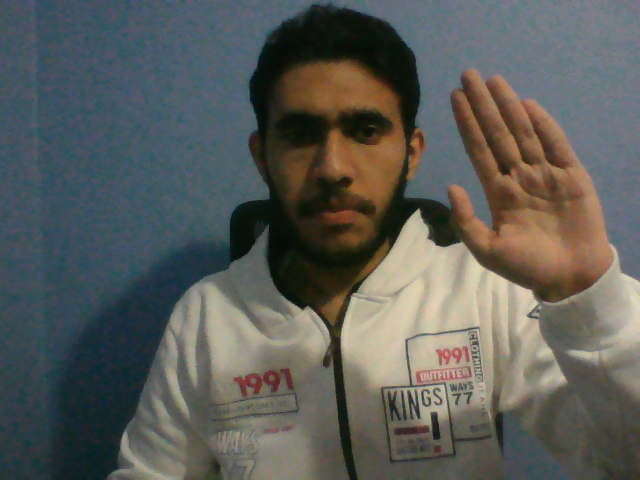hello: (442, 63, 623, 311)
